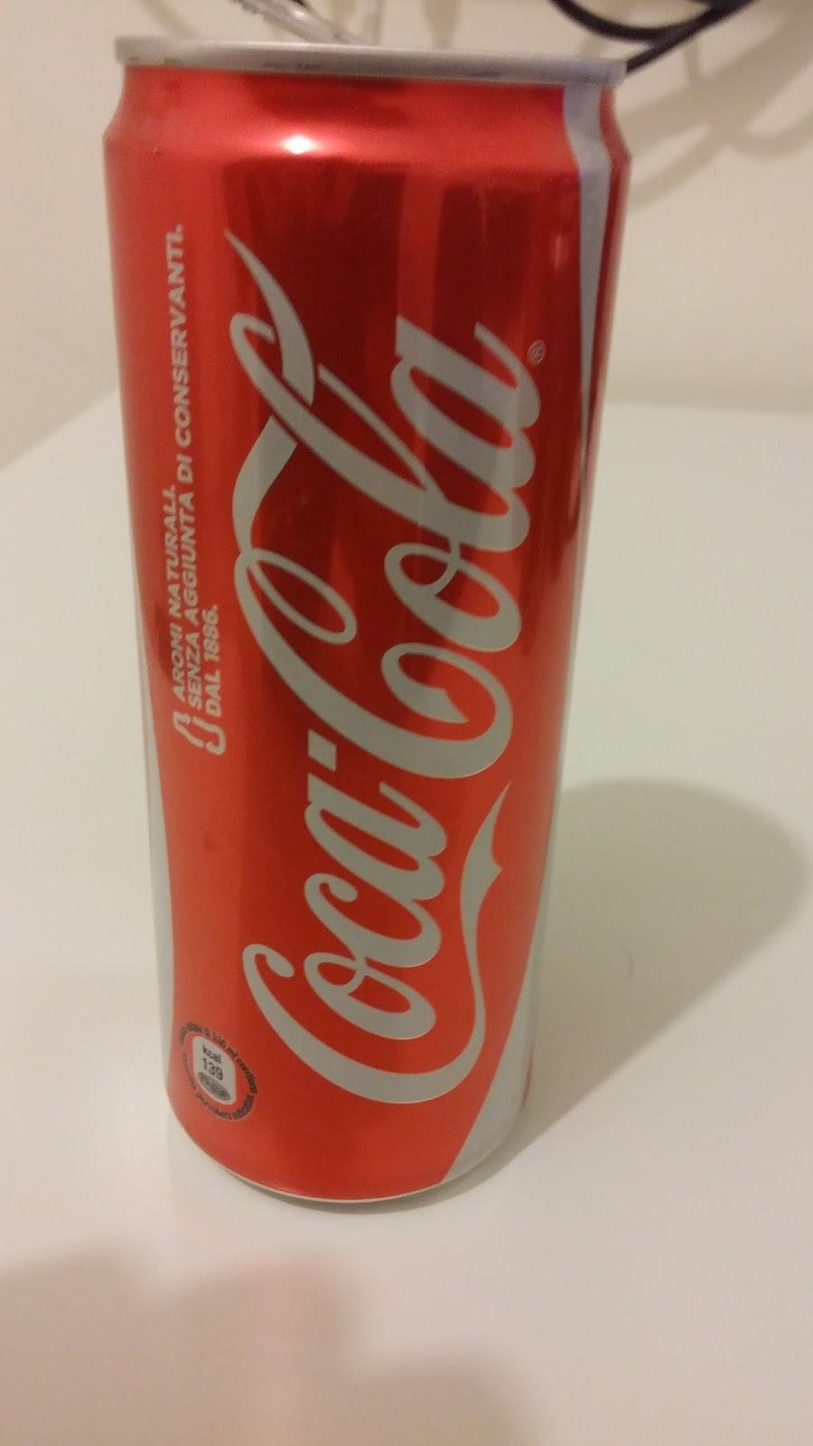metal: (104, 38, 627, 1203)
